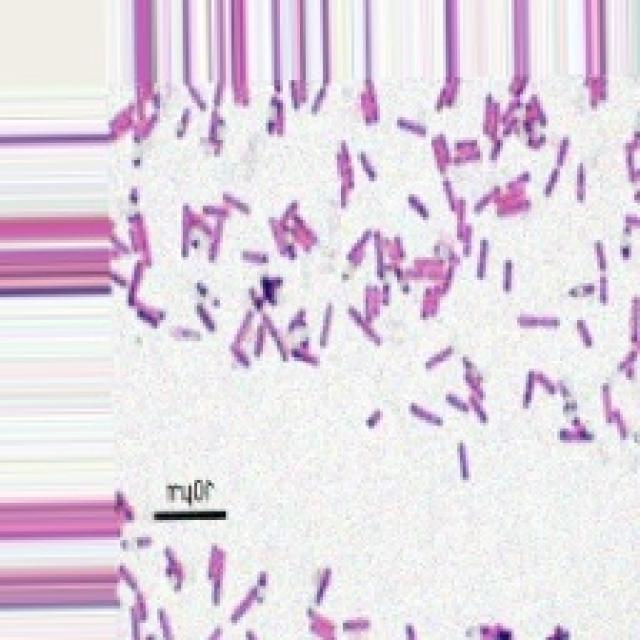Rod_bacteria: (100, 0, 637, 637)
